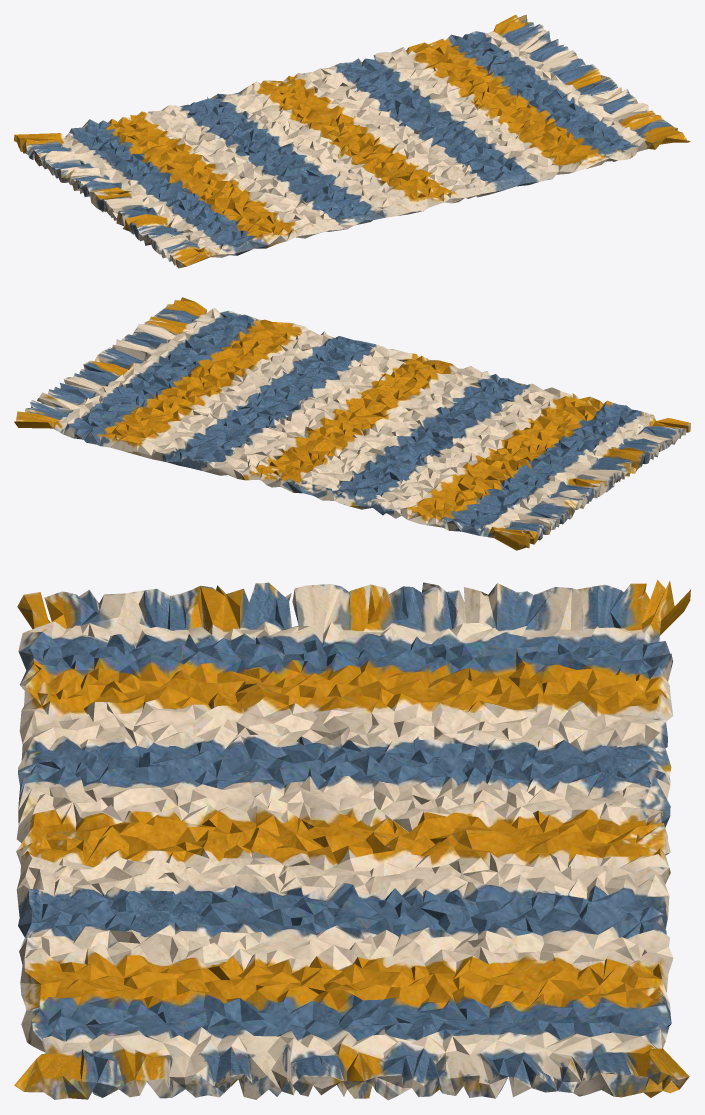
File: props_matto.glb
3 renders of one model, top to bottom at view 1: azimuth 30°, elevation 25°; view 2: azimuth 150°, elevation 25°; view 3: azimuth 270°, elevation 25°, orthographic. The views are drawn at different scales.
Parts seen in each view (by area): view 1: output_unwrapped; view 2: output_unwrapped; view 3: output_unwrapped.
Part boxes in pixels (x1,y1,x2,y2): output_unwrapped: (14,14,690,268); output_unwrapped: (14,297,690,550); output_unwrapped: (14,580,690,1100).
Bounding box in the file's own units: 0.55 × 0.0174 × 0.3191.
1 material, 1 textured.
